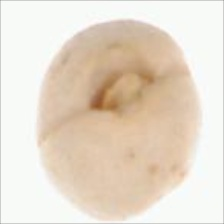L3: (83, 63, 155, 111)
L4: (36, 19, 203, 219)
